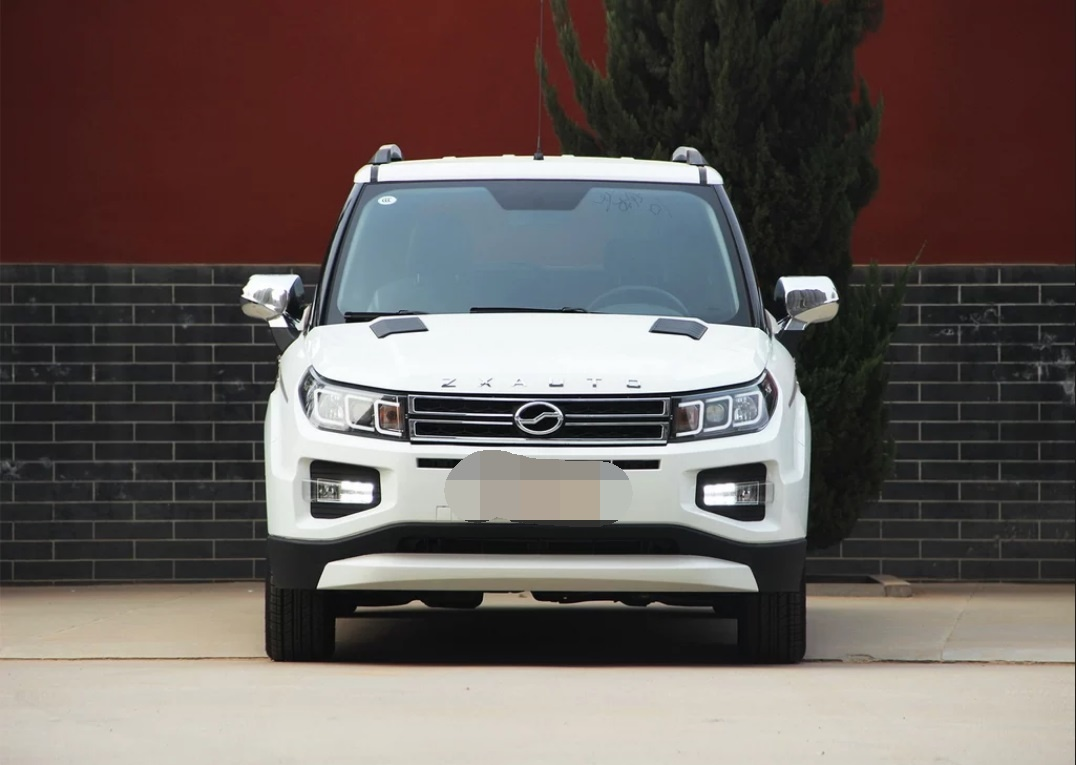SUV: (211, 87, 855, 661)
